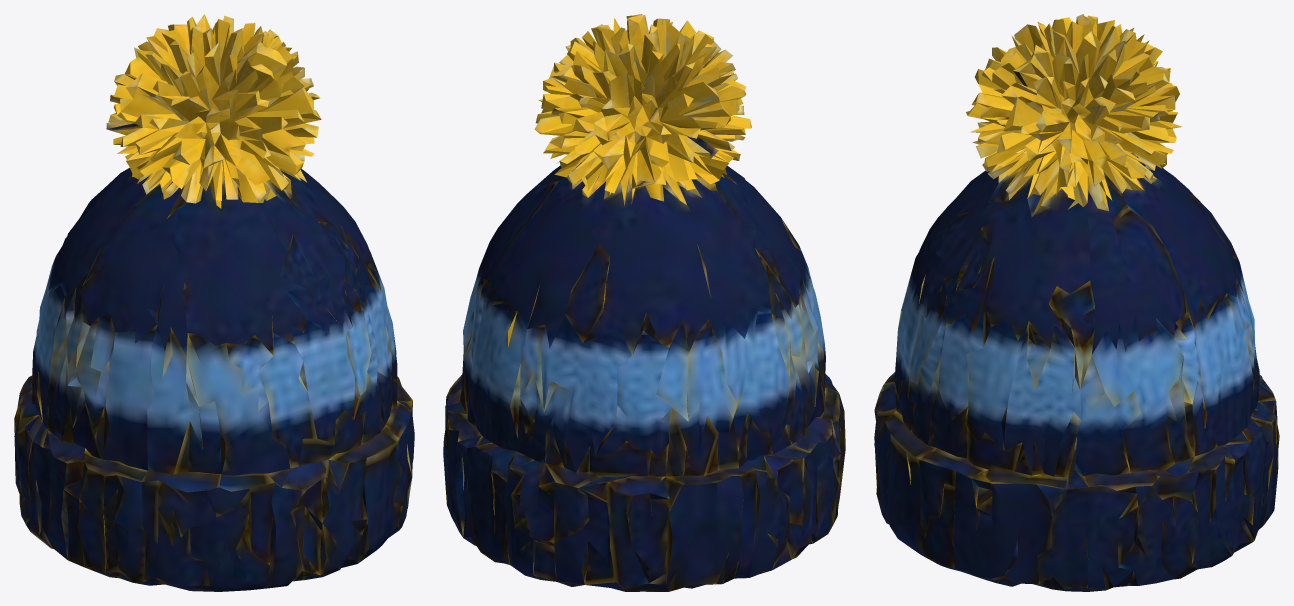
File: acc_beanie.glb
3 renders of one model, left to right at view 1: azimuth 30°, elevation 25°; view 2: azimuth 150°, elevation 25°; view 3: azimuth 270°, elevation 25°, orthographic.
Parts seen in each view (by area): view 1: Mesh_0; view 2: Mesh_0; view 3: Mesh_0.
Boxes of the visible parts, <box> form: Mesh_0: <box>14,14,414,591</box>; Mesh_0: <box>443,14,845,591</box>; Mesh_0: <box>874,14,1279,591</box>.
Bounding box in the file's own units: 1.41 × 1.9 × 1.42.
1 material, 1 textured.
